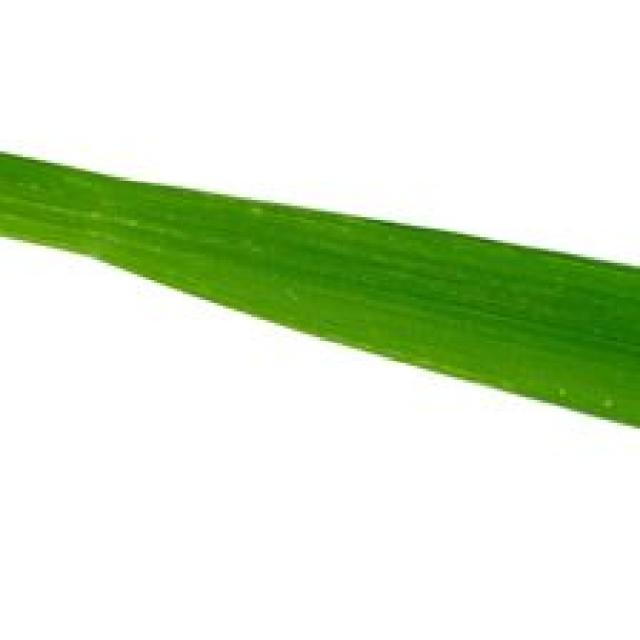Rice___Healthy_Rice_Plant: (0, 147, 637, 431)
